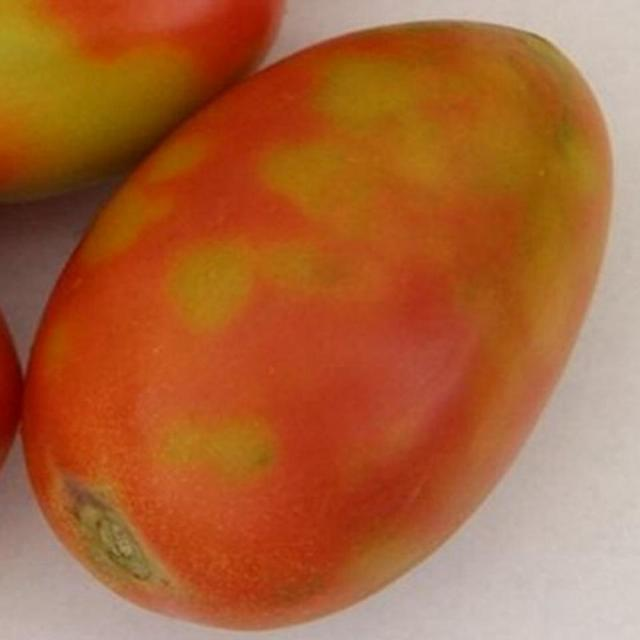Spotted wilt Virus Fruit: (14, 12, 405, 421)
